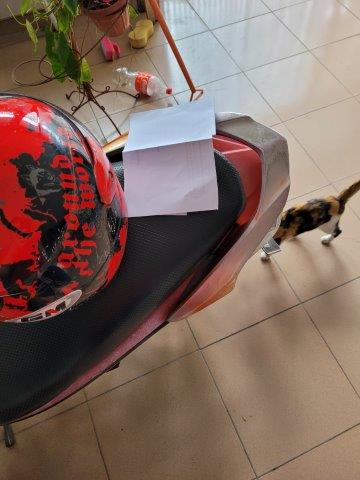botolplastik: (113, 66, 177, 97)
kertas: (123, 101, 221, 218)
